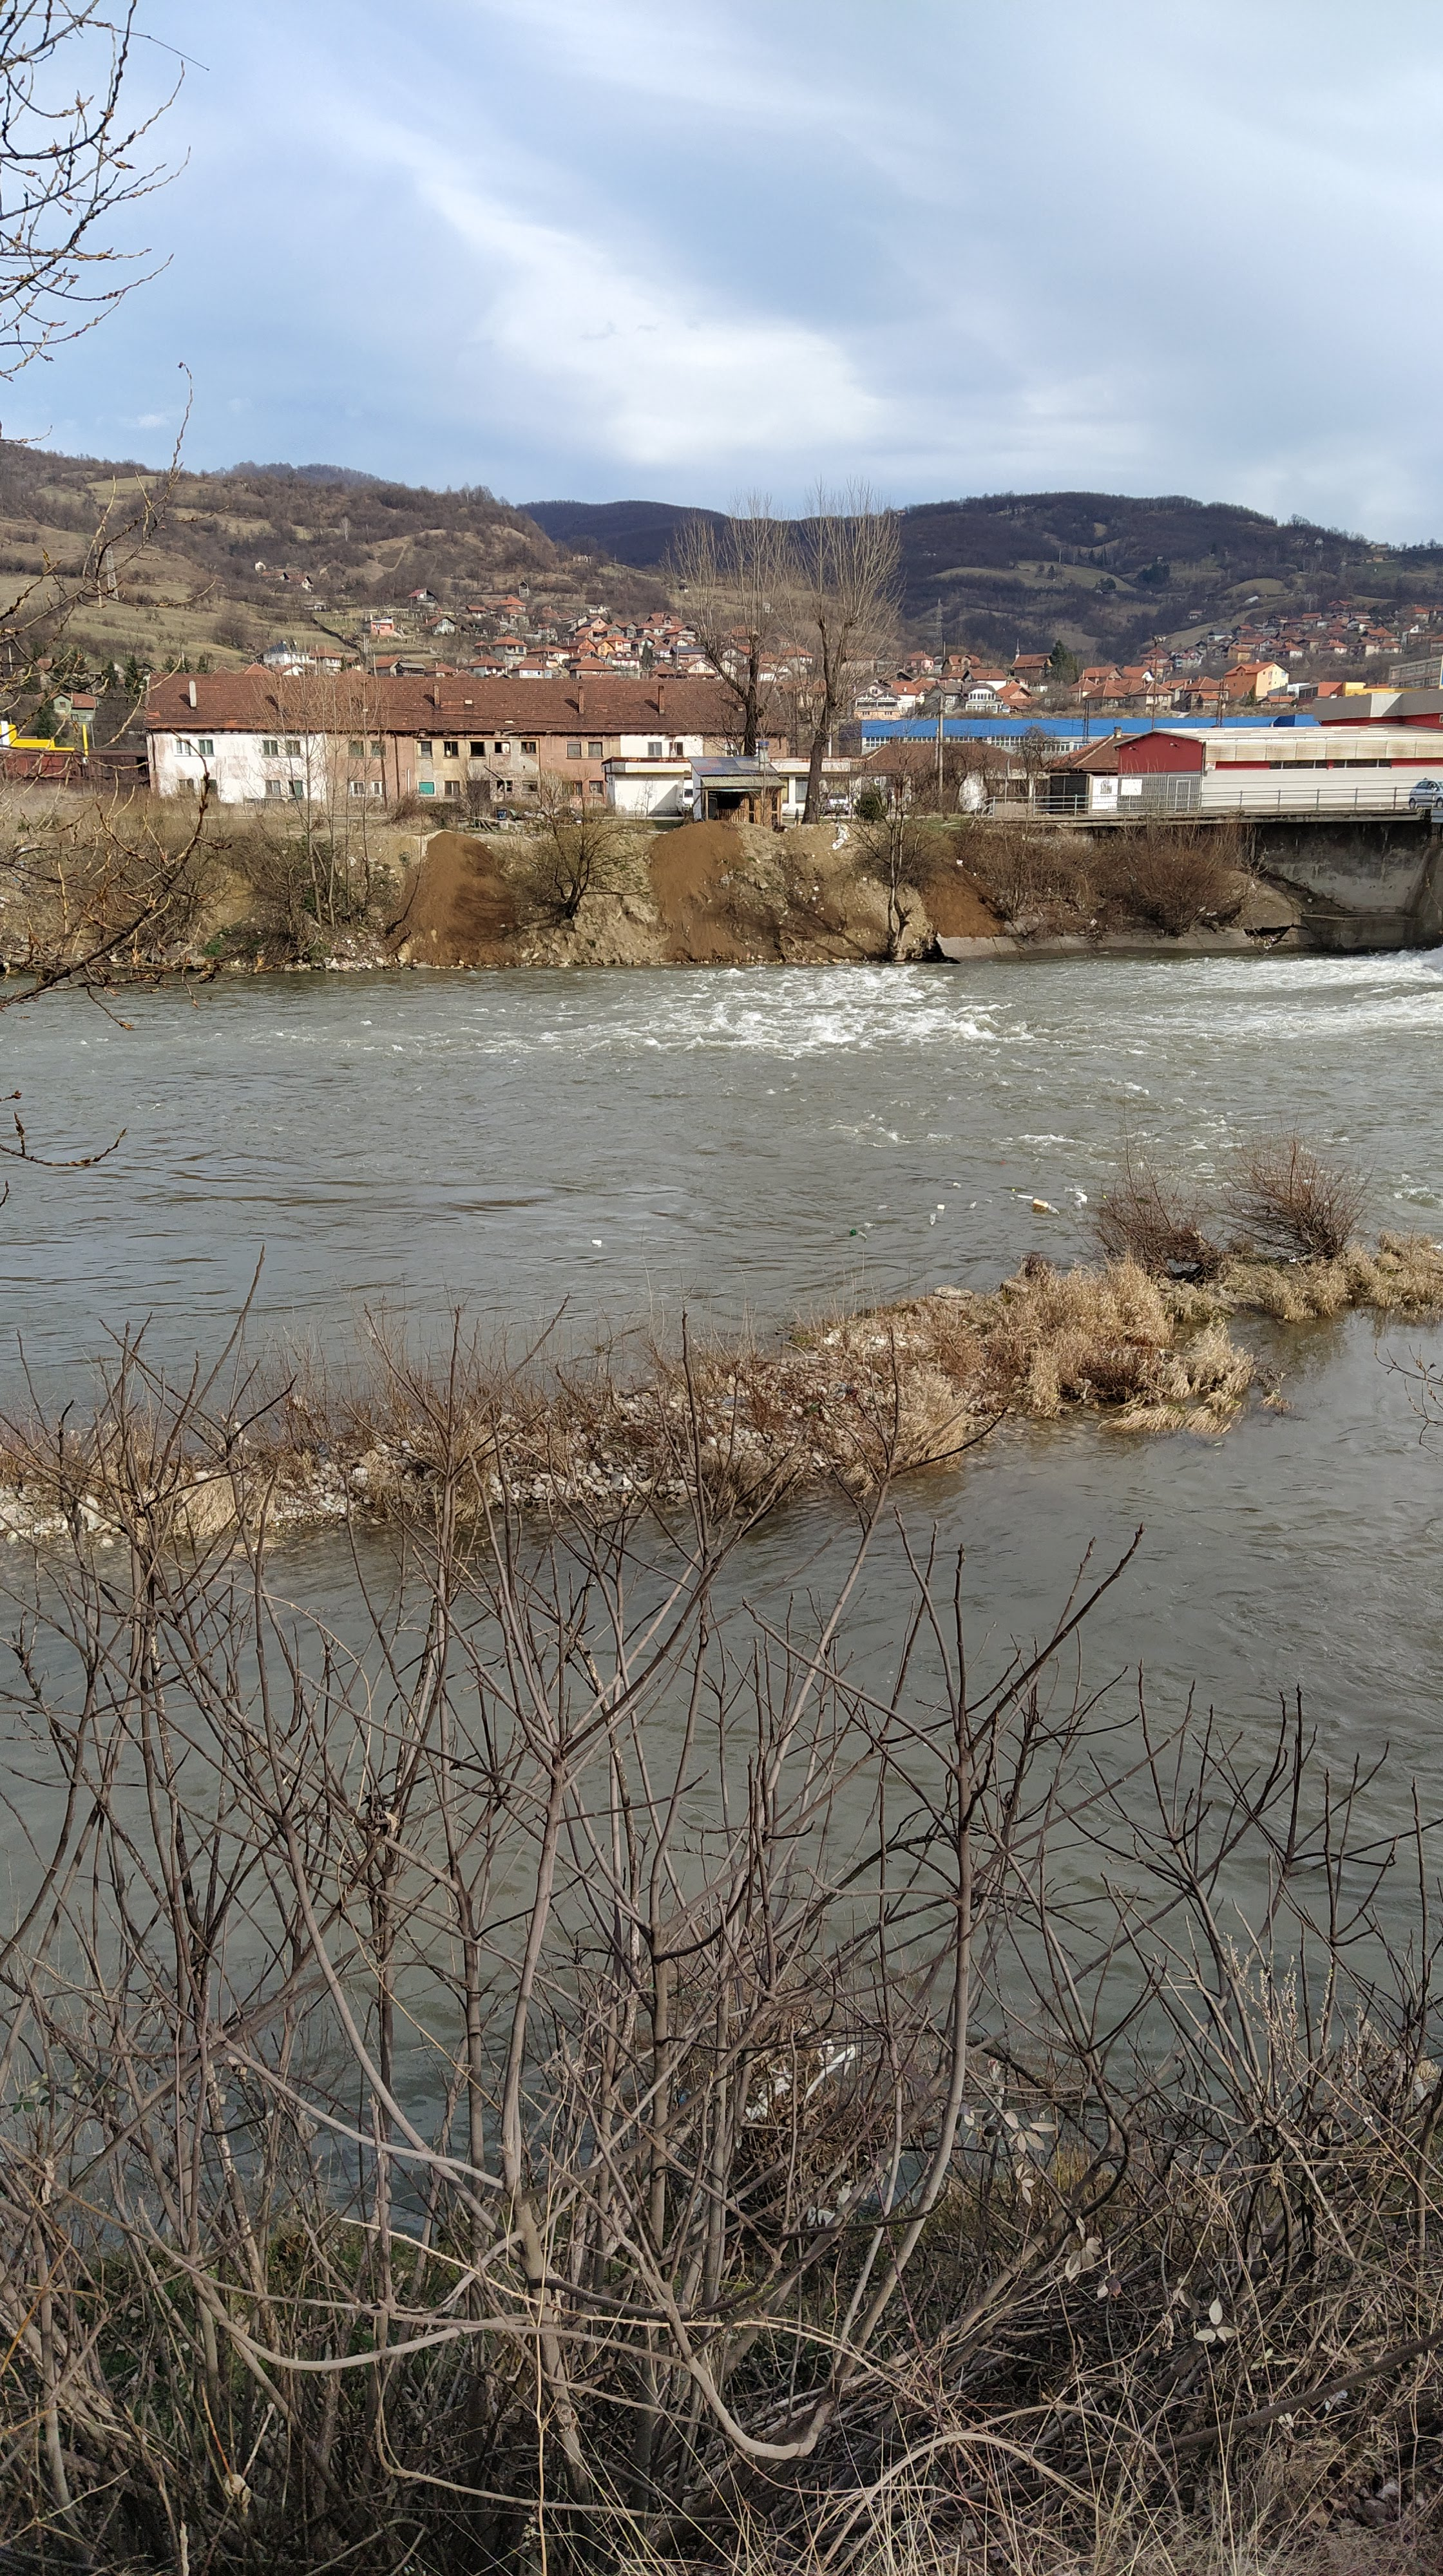Plastic Bottle: (1032, 1198, 1048, 1208), (1015, 1192, 1034, 1200), (1048, 1205, 1061, 1214), (1064, 1185, 1084, 1191), (930, 1212, 937, 1224), (1075, 1201, 1082, 1210), (878, 1205, 889, 1210), (968, 1200, 976, 1207), (593, 1238, 600, 1246), (850, 1230, 857, 1235), (986, 1198, 992, 1203)
